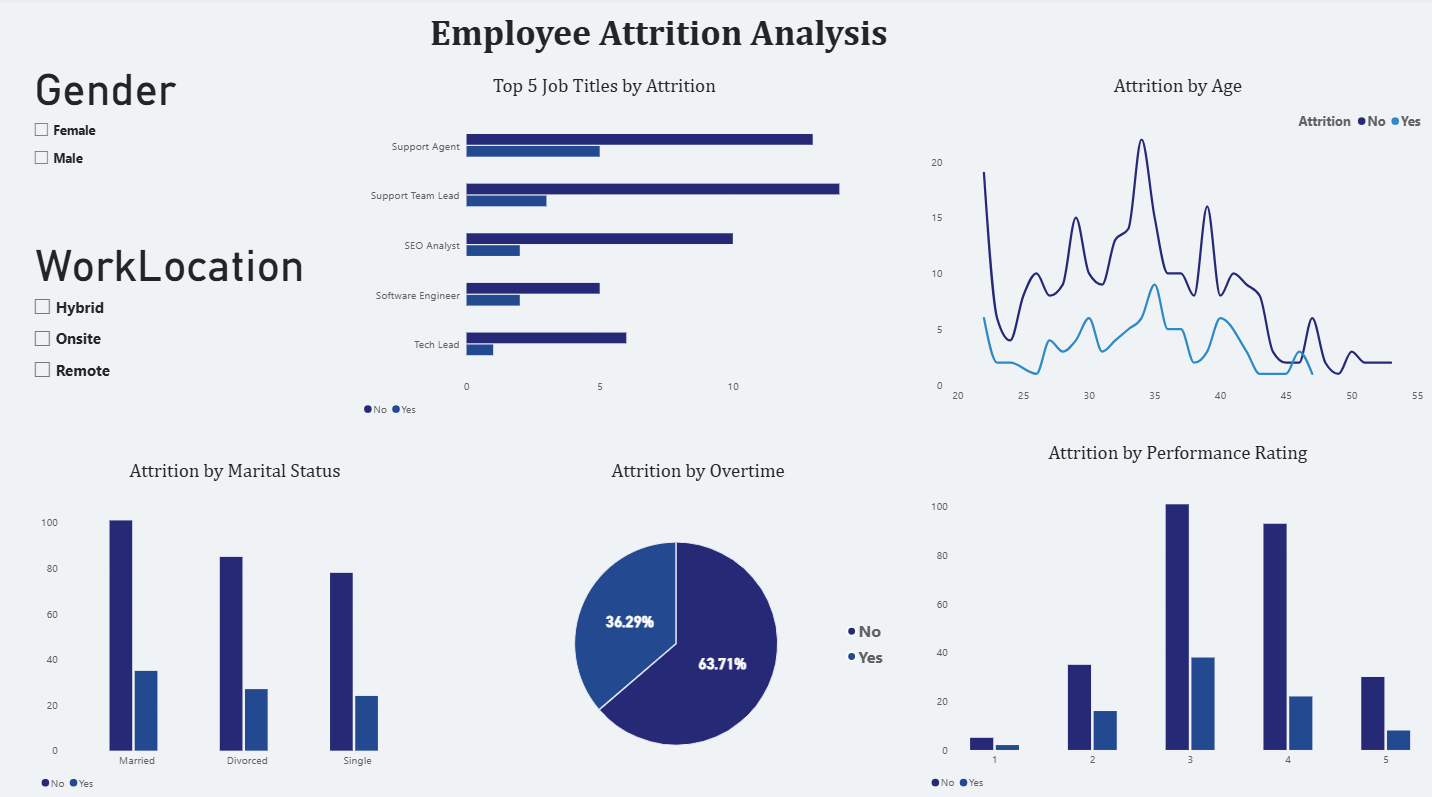

The page's visual inventory and layout, read from the dashboard file:
{"tool":"powerbi","page":{"name":"Attrition","canvas":[1920,1080],"ordinal":2},"visuals":[{"type":"lineChart","title":"Attrition by Age","fields":{"Category":["HR_Data.Age"],"Y":["CountNonNull(HR_Data.Attrition)"]},"box":[1228,88,692,474],"z":0},{"type":"pieChart","title":"Attrition by Overtime","fields":{"Category":["HR_Data.OverTime"],"Y":["CountNonNull(HR_Data.Attrition)"]},"box":[661.2,602,542.9,477.6],"z":1000},{"type":"clusteredBarChart","title":"Top 5 Job Titles by Attrition","fields":{"Category":["HR_Data.JobTitle"],"Y":["CountNonNull(HR_Data.Attrition)"]},"box":[470,88.3,676,492],"z":2000},{"type":"clusteredColumnChart","title":"Attrition by Marital Status","fields":{"Category":["HR_Data.MaritalStatus"],"Y":["CountNonNull(HR_Data.Attrition)"]},"box":[38.8,602,551,477.6],"z":3000},{"type":"textbox","box":[530.6,0,698,87.8],"z":4000},{"type":"clusteredColumnChart","title":"Attrition by Performance Rating","fields":{"Category":["HR_Data.PerformanceRating"],"Y":["CountNonNull(HR_Data.Attrition)"]},"box":[1228,580,692,500],"z":5000},{"type":"slicer","fields":{"Values":["HR_Data.WorkLocation"]},"box":[38.8,324.5,416.3,346.9],"z":6000},{"type":"slicer","fields":{"Values":["HR_Data.Gender"]},"box":[38.8,87.8,362,346],"z":7000}]}

Visuals, with their boxes in screenshot pixels (x1, y1, x2, y2), scaled from the page's 1920x1080 canvas onto the 1432x797 screenshot:
"Attrition by Age" lineChart: x1=916, y1=65, x2=1431, y2=415
"Attrition by Overtime" pieChart: x1=493, y1=444, x2=898, y2=796
"Top 5 Job Titles by Attrition" clusteredBarChart: x1=351, y1=65, x2=855, y2=428
"Attrition by Marital Status" clusteredColumnChart: x1=29, y1=444, x2=440, y2=796
textbox: x1=396, y1=0, x2=916, y2=65
"Attrition by Performance Rating" clusteredColumnChart: x1=916, y1=428, x2=1431, y2=796
slicer - HR_Data.WorkLocation: x1=29, y1=239, x2=339, y2=495
slicer - HR_Data.Gender: x1=29, y1=65, x2=299, y2=320
